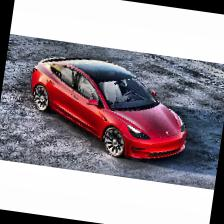EV: (22, 49, 198, 170)
